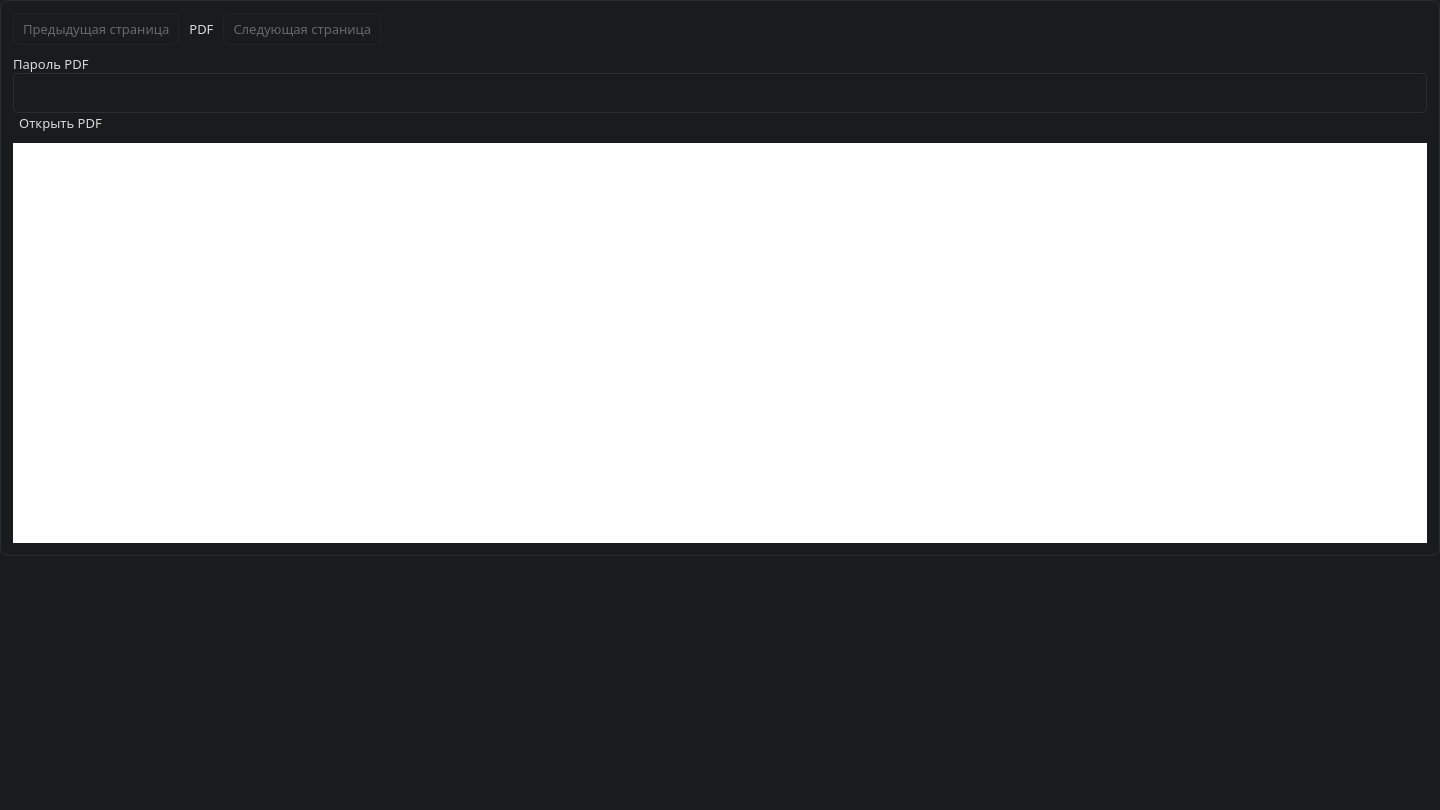
Test case: requests a PDF password, clears submitted secrets and ignores callbacks after disposal
Type "wrong" into the password field labelled "Пароль PDF" at [720, 93], box [13, 73, 1427, 113]
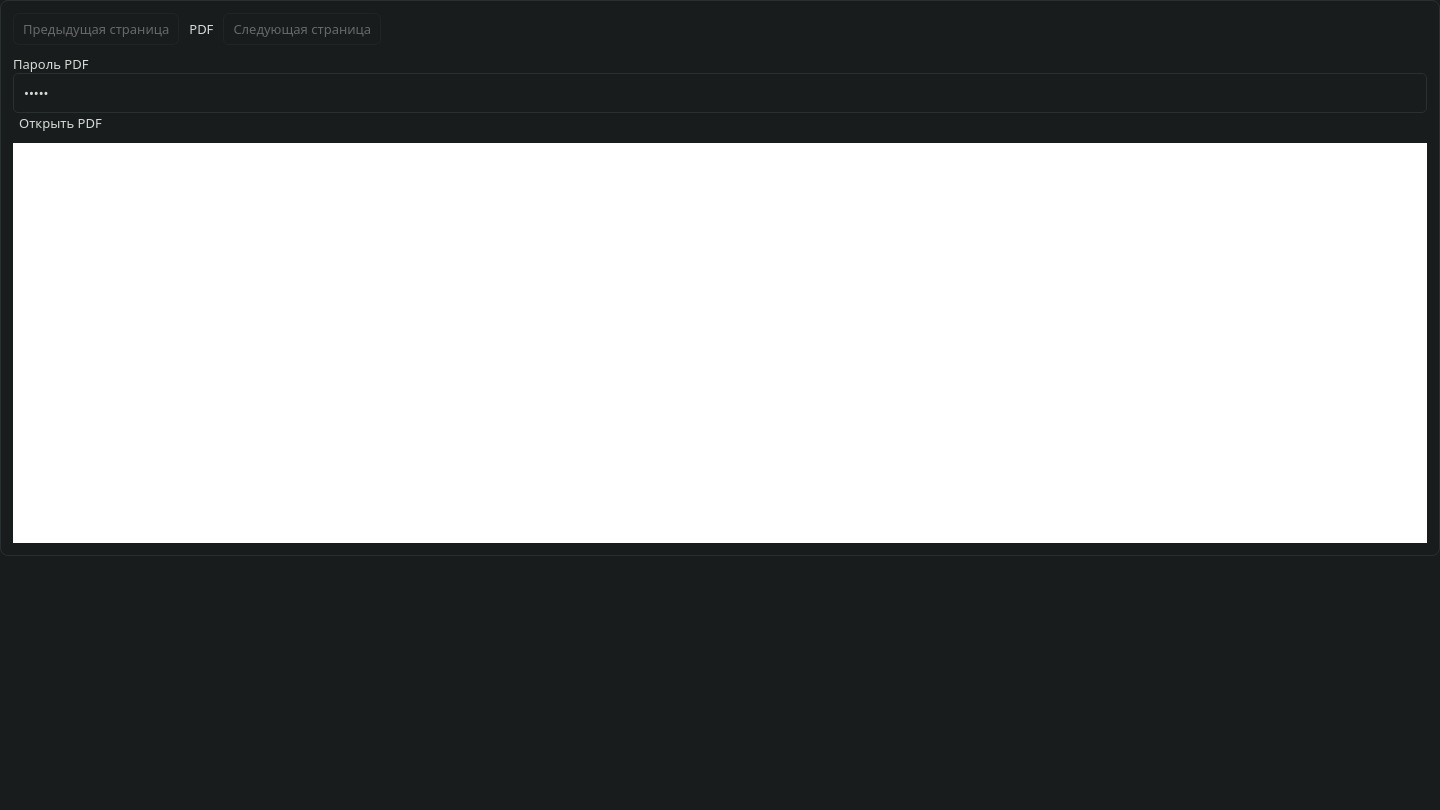
Click the button "Открыть PDF" at [60, 123], box [13, 113, 108, 133]
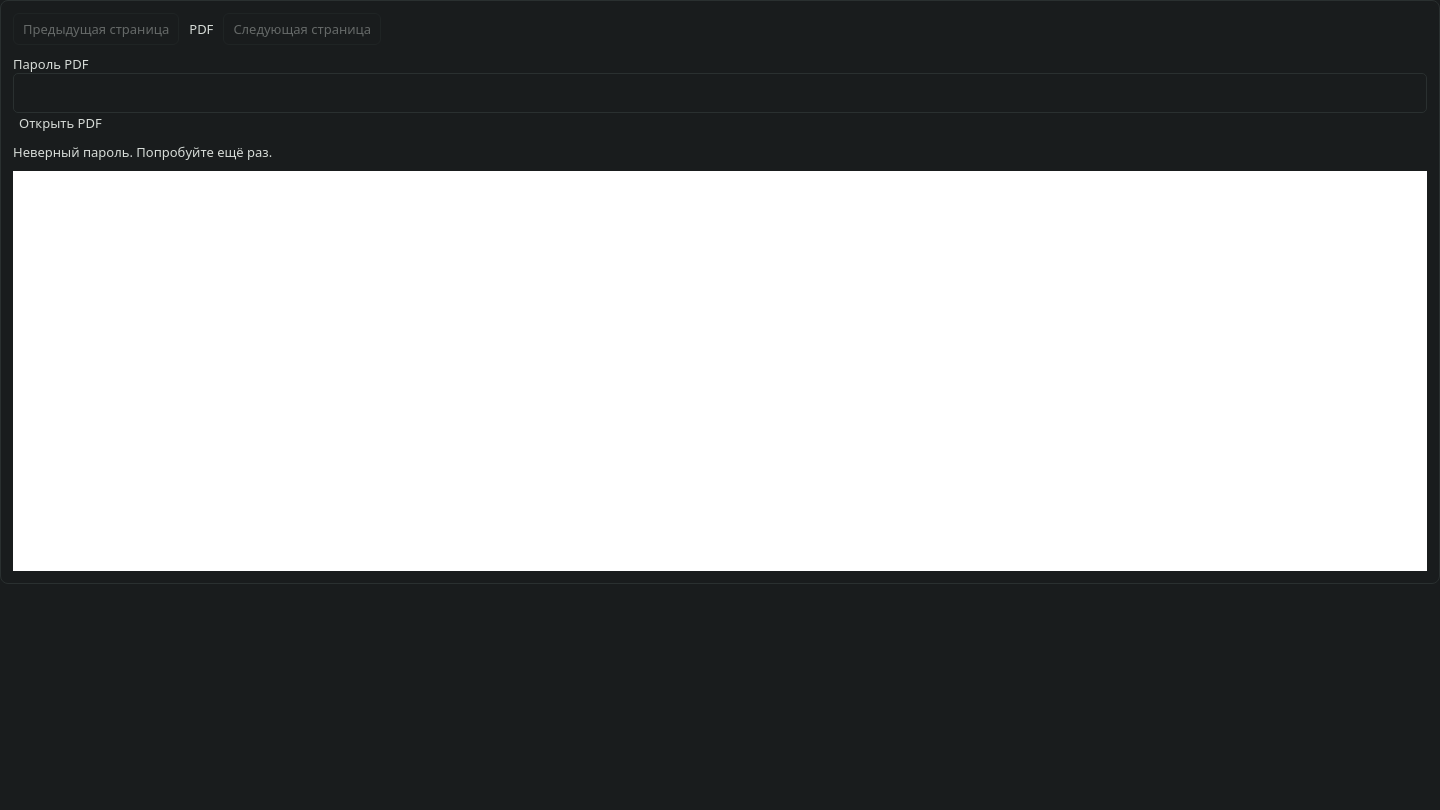
Check: the password field labelled "Пароль PDF" is empty, box [13, 73, 1427, 113]
Check: the message shows "Неверный пароль", box [13, 143, 272, 161]
